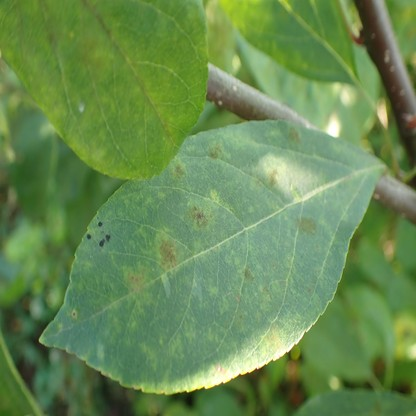scab: (59, 128, 378, 391), (0, 0, 175, 146)
